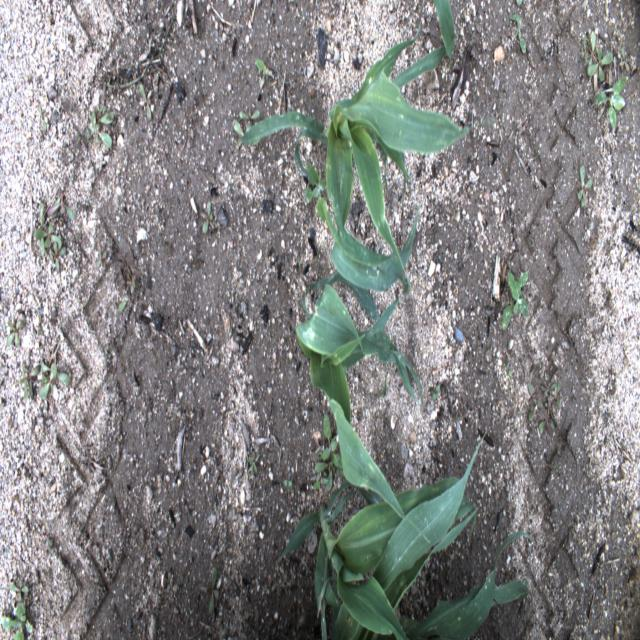crop: (240, 18, 473, 297), (278, 428, 533, 639), (295, 268, 430, 544), (432, 0, 454, 69)
weed: (105, 21, 173, 89), (593, 75, 627, 131), (304, 162, 330, 224), (502, 270, 528, 331), (586, 30, 613, 80), (321, 413, 345, 468), (82, 110, 114, 148), (1, 603, 33, 639), (19, 363, 41, 404), (47, 190, 75, 220), (92, 106, 116, 141), (40, 360, 72, 385), (232, 119, 256, 152), (38, 362, 58, 401), (34, 222, 62, 249), (577, 163, 594, 207), (539, 393, 558, 432), (238, 108, 261, 140), (508, 14, 526, 54), (324, 448, 338, 492), (6, 318, 27, 347), (118, 279, 136, 312), (209, 566, 220, 616), (315, 448, 337, 473), (138, 82, 152, 121), (49, 242, 67, 271), (255, 56, 269, 90), (526, 380, 543, 408), (9, 578, 29, 600), (201, 200, 213, 233), (540, 374, 558, 396), (38, 202, 45, 256), (313, 467, 329, 489), (618, 45, 631, 72), (247, 452, 260, 473), (96, 251, 110, 270), (581, 39, 590, 65), (38, 105, 47, 130), (337, 453, 346, 478), (555, 378, 562, 408), (582, 28, 594, 45), (431, 383, 441, 403), (501, 362, 513, 378), (165, 570, 172, 592), (527, 410, 538, 424), (37, 314, 43, 336), (283, 479, 293, 488), (516, 0, 523, 7)
